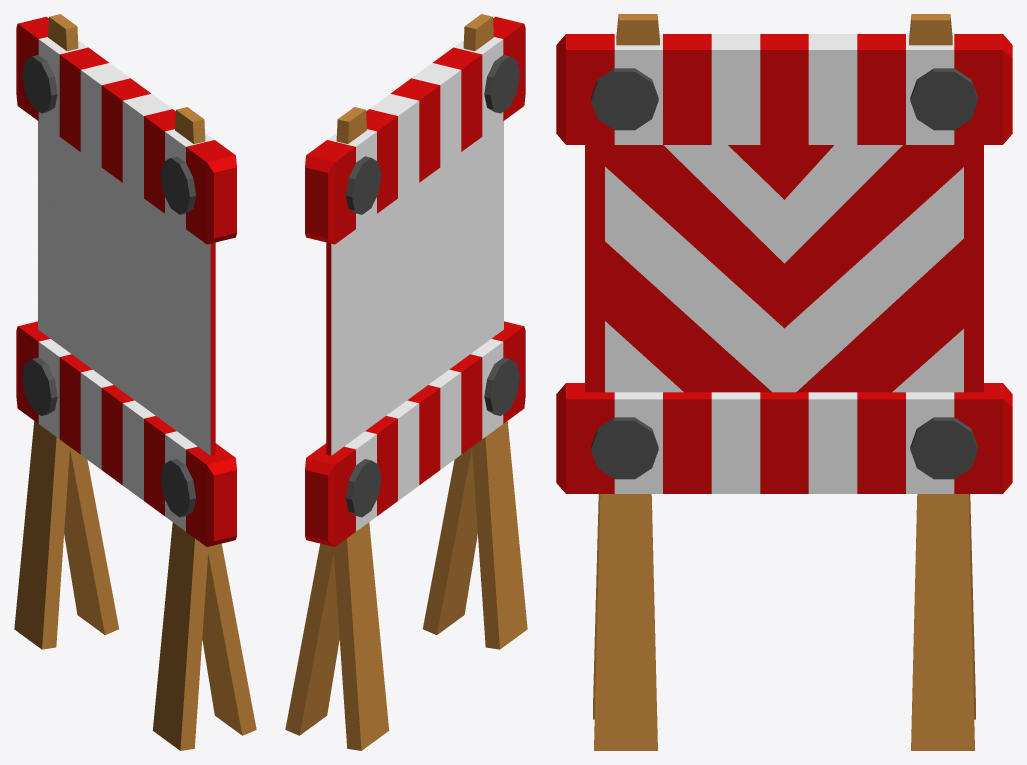
The model's file is block 3.fbx.
The picture shows the model from 3 angles, left to right: view 1: azimuth 30°, elevation 25°; view 2: azimuth 150°, elevation 25°; view 3: azimuth 270°, elevation 25°; orthographic projection. The views are drawn at different scales.
Visible parts, largest first — view 1: Cube.005, plane.002, Cube.004, Cube.002, Cylinder.003, Cylinder.004, plane.003; view 2: Cube.005, plane.002, Cube.004, Cube.002, Cylinder.003, Cylinder.004, plane.003; view 3: Cube.005, Cube.004, Cube.002, plane.002, Cylinder.003, Cylinder.004, plane.003.
Boxes of the visible parts, <box> form: Cube.005: <box>38,121,215,455</box>; plane.002: <box>14,421,256,750</box>; Cube.004: <box>16,16,236,244</box>; Cube.002: <box>16,321,236,546</box>; Cylinder.003: <box>22,357,195,517</box>; Cylinder.004: <box>22,55,195,214</box>; plane.003: <box>48,14,205,143</box>; Cube.005: <box>326,121,503,455</box>; plane.002: <box>285,421,527,750</box>; Cube.004: <box>305,16,525,244</box>; Cube.002: <box>305,321,525,546</box>; Cylinder.003: <box>346,357,519,517</box>; Cylinder.004: <box>346,55,519,214</box>; plane.003: <box>336,14,493,143</box>; Cube.005: <box>585,145,983,392</box>; Cube.004: <box>556,34,1012,144</box>; Cube.002: <box>556,383,1012,493</box>; plane.002: <box>593,494,975,750</box>; Cylinder.003: <box>591,417,977,479</box>; Cylinder.004: <box>591,68,977,130</box>; plane.003: <box>616,14,952,45</box>.
Bounding box in the file's own units: 32 × 246 × 143.
